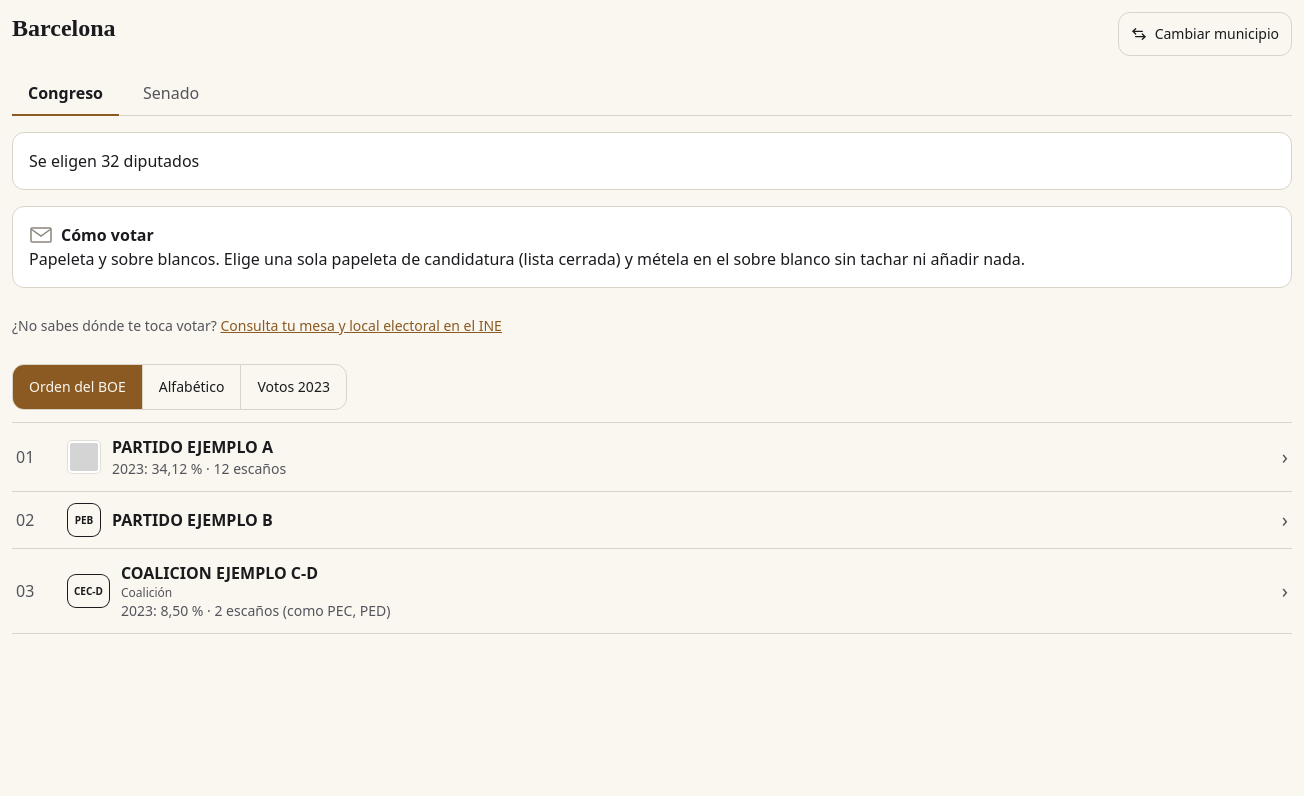
Test: ConstituencyView › 2023 results block › hides again after switching back
Click the radio button labelled "Votos 2023": (294, 386) 257,377 -> 330,396
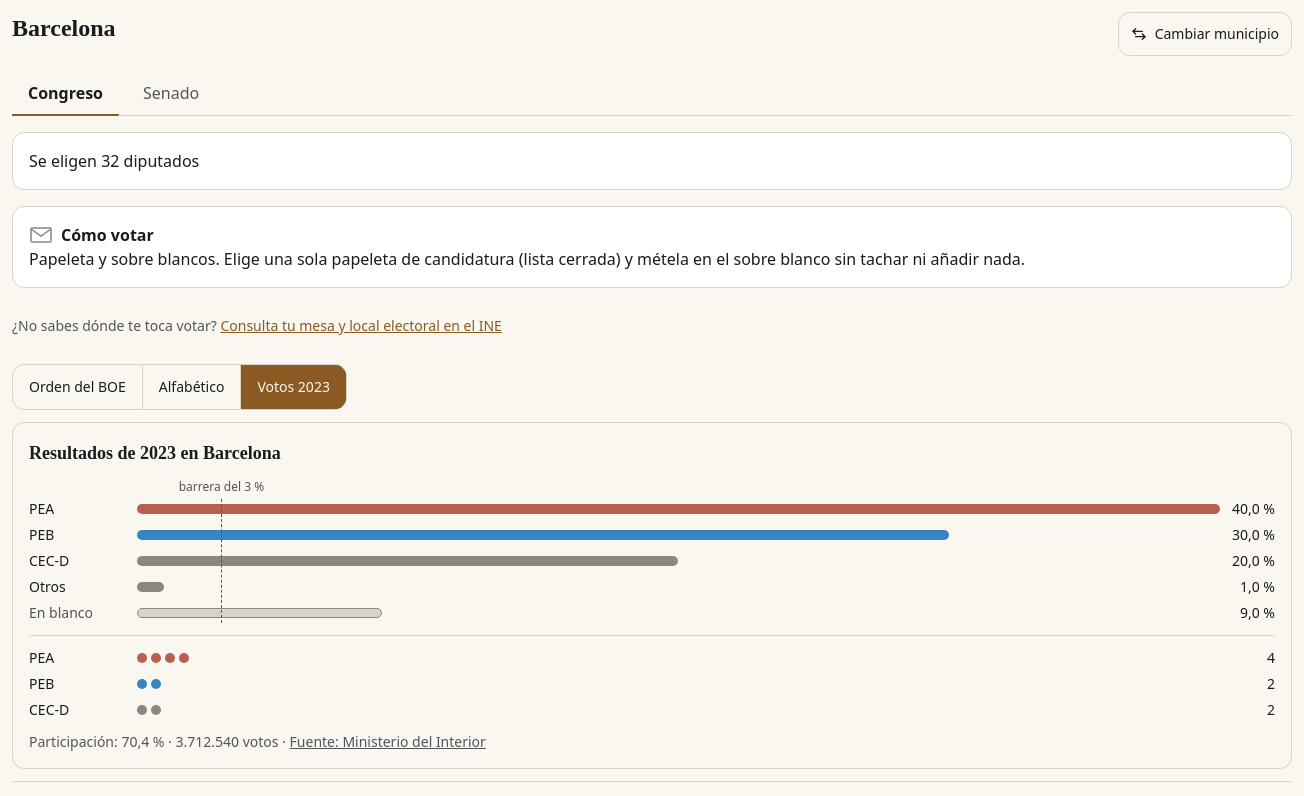
Click the radio button labelled "Orden del BOE": (78, 387) 13,365 -> 143,409
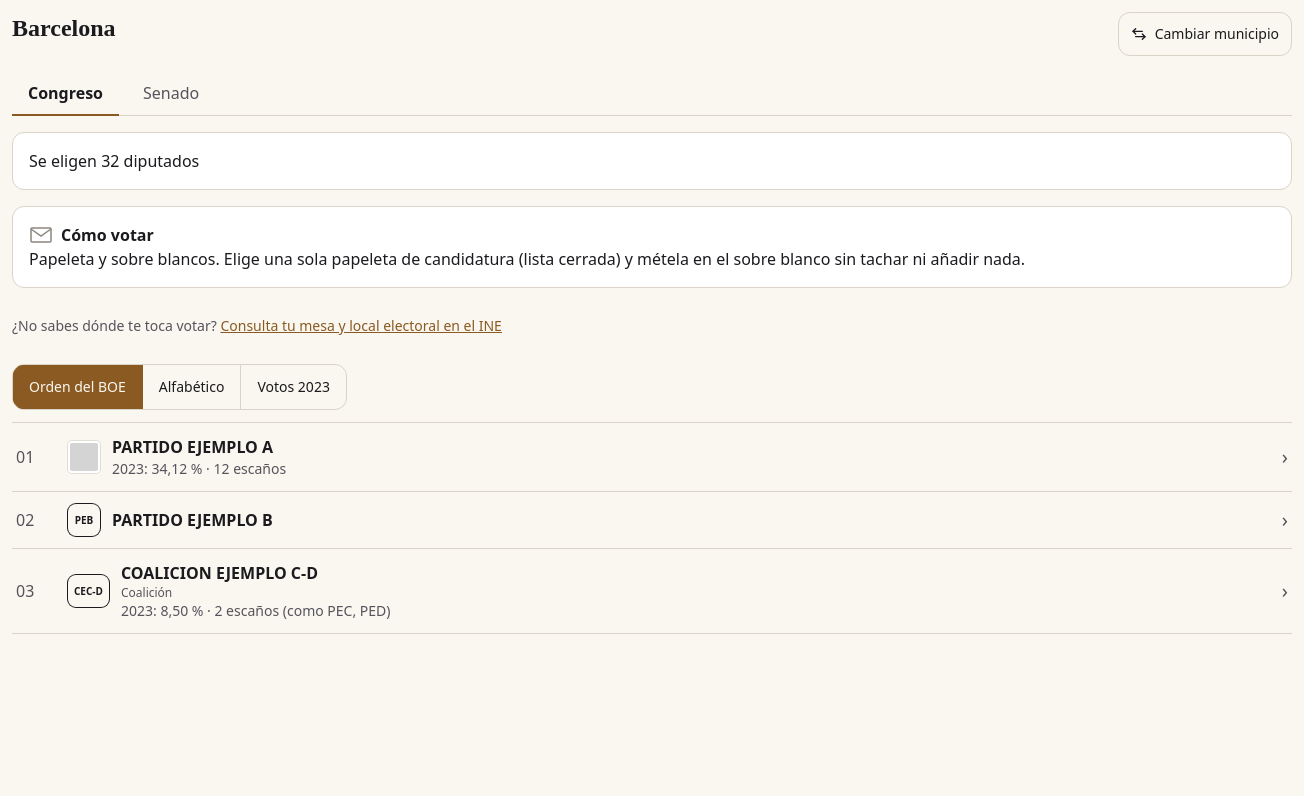
expect the heading "Resultados de 2023 en Barcelona" is gone: met
